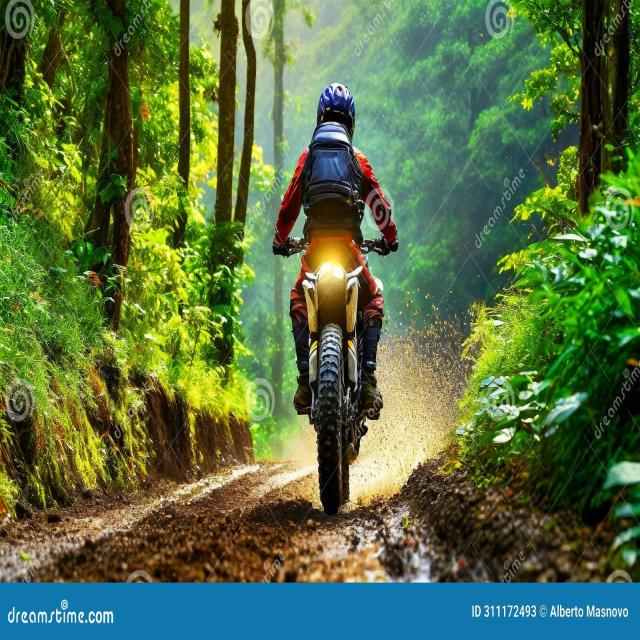Bike: (276, 235, 395, 512)
